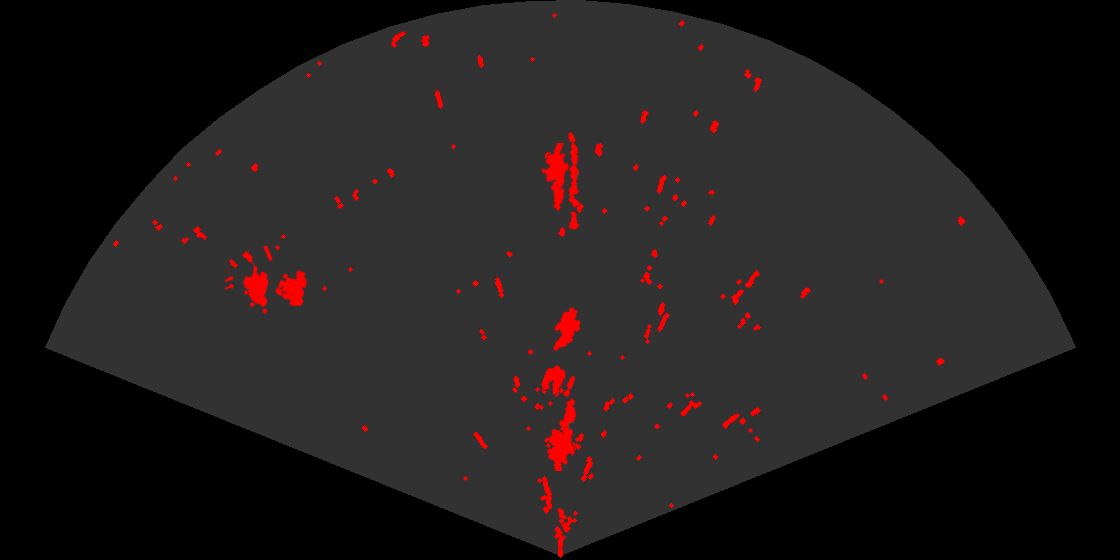AUV: (552, 306, 582, 352)
ball: (540, 364, 577, 399)
cage: (225, 246, 309, 316)
chain: (567, 131, 581, 231)
frogman: (542, 397, 578, 471), (540, 143, 571, 213)
